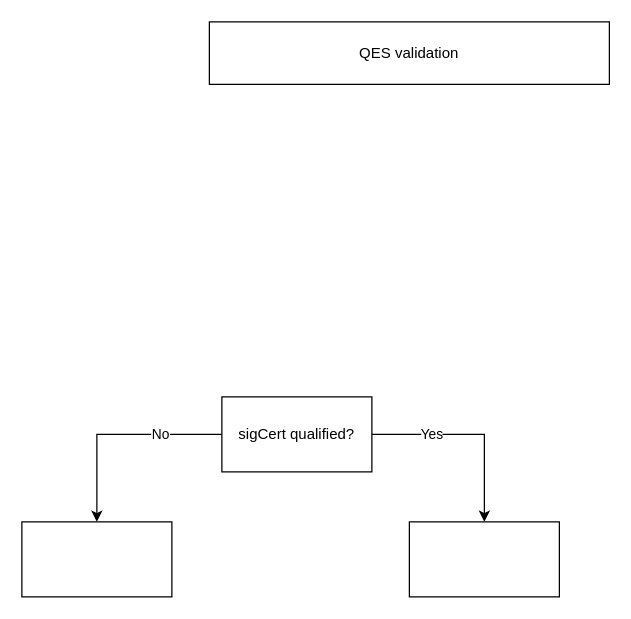
This 631x619 diagram has some shape labels left out. The shapes that lost their labels are listed below. From the top down, each one's box as (x1, y1, x2, y2) in pixels, then its label:
(21, 521, 172, 597): QcType
(408, 521, 559, 597): Sie:Q:QcForXX catching sigCert
